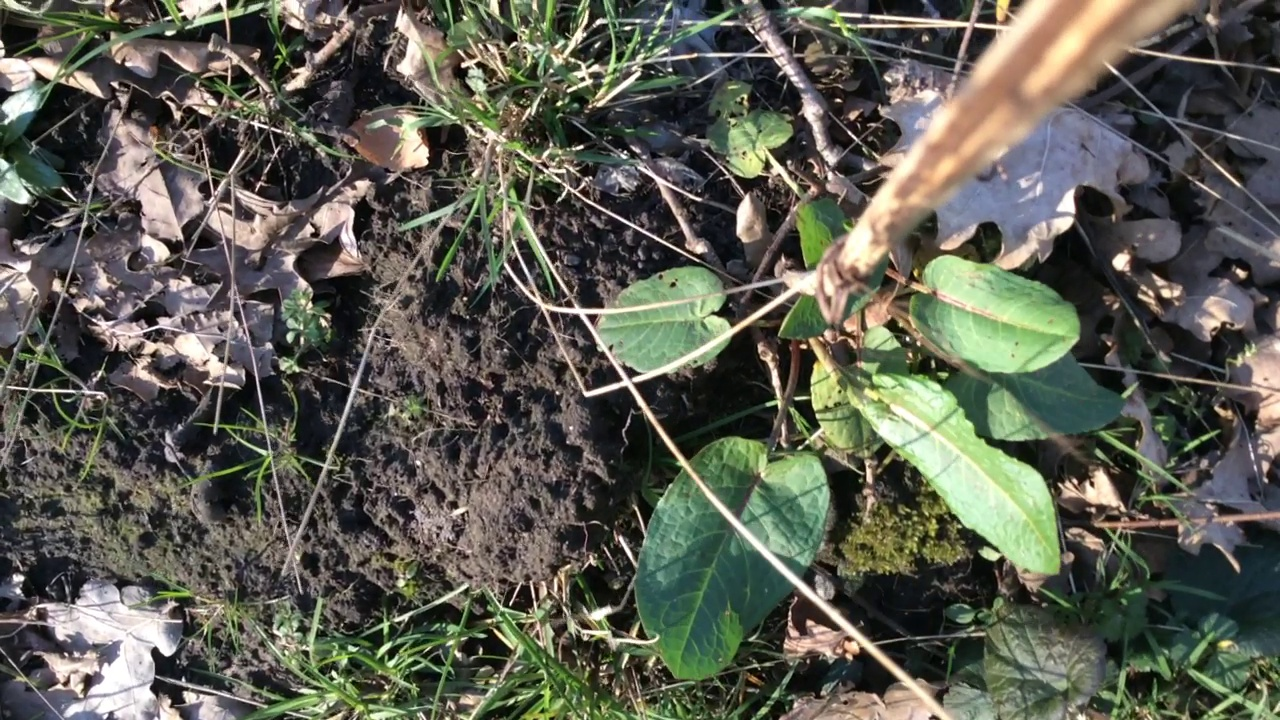rumex: (592, 80, 1133, 682)
